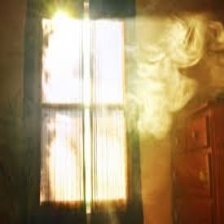smoke: (130, 19, 206, 116)
